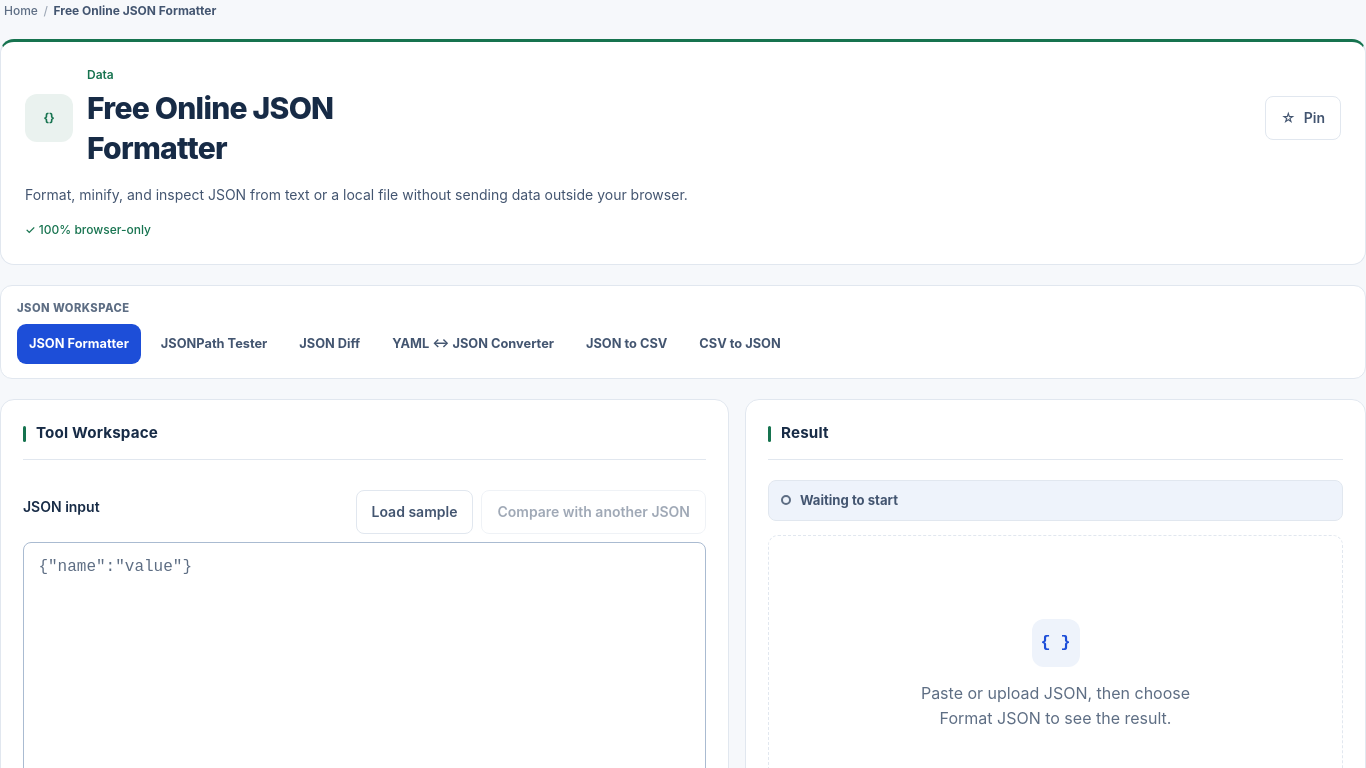
Test: JsonFormatterPage › starts empty and loads an explicit sample on request
What coordinates should you click on to do the following:
click the button "Load sample"
I would click on:
 (414, 512)
Its box is x1=356 y1=490 x2=473 y2=534.
(page scrolled)
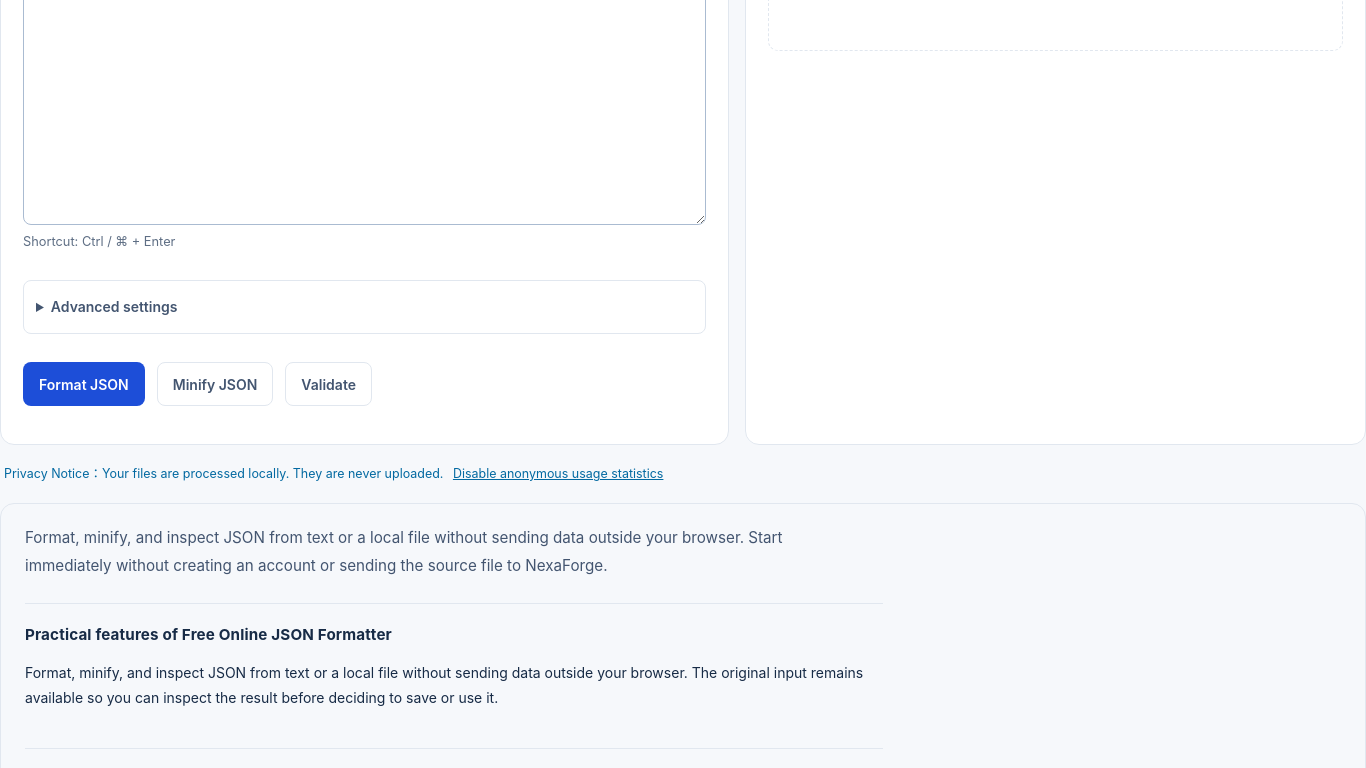
Check: the button "Format JSON" is enabled, box x1=23 y1=362 x2=145 y2=406
